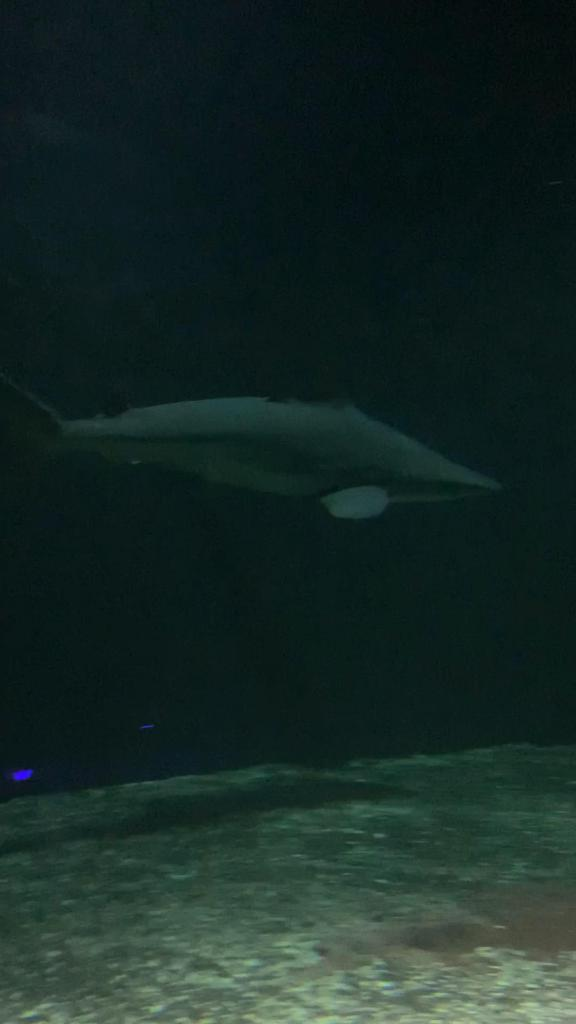shark: (9, 347, 497, 519)
